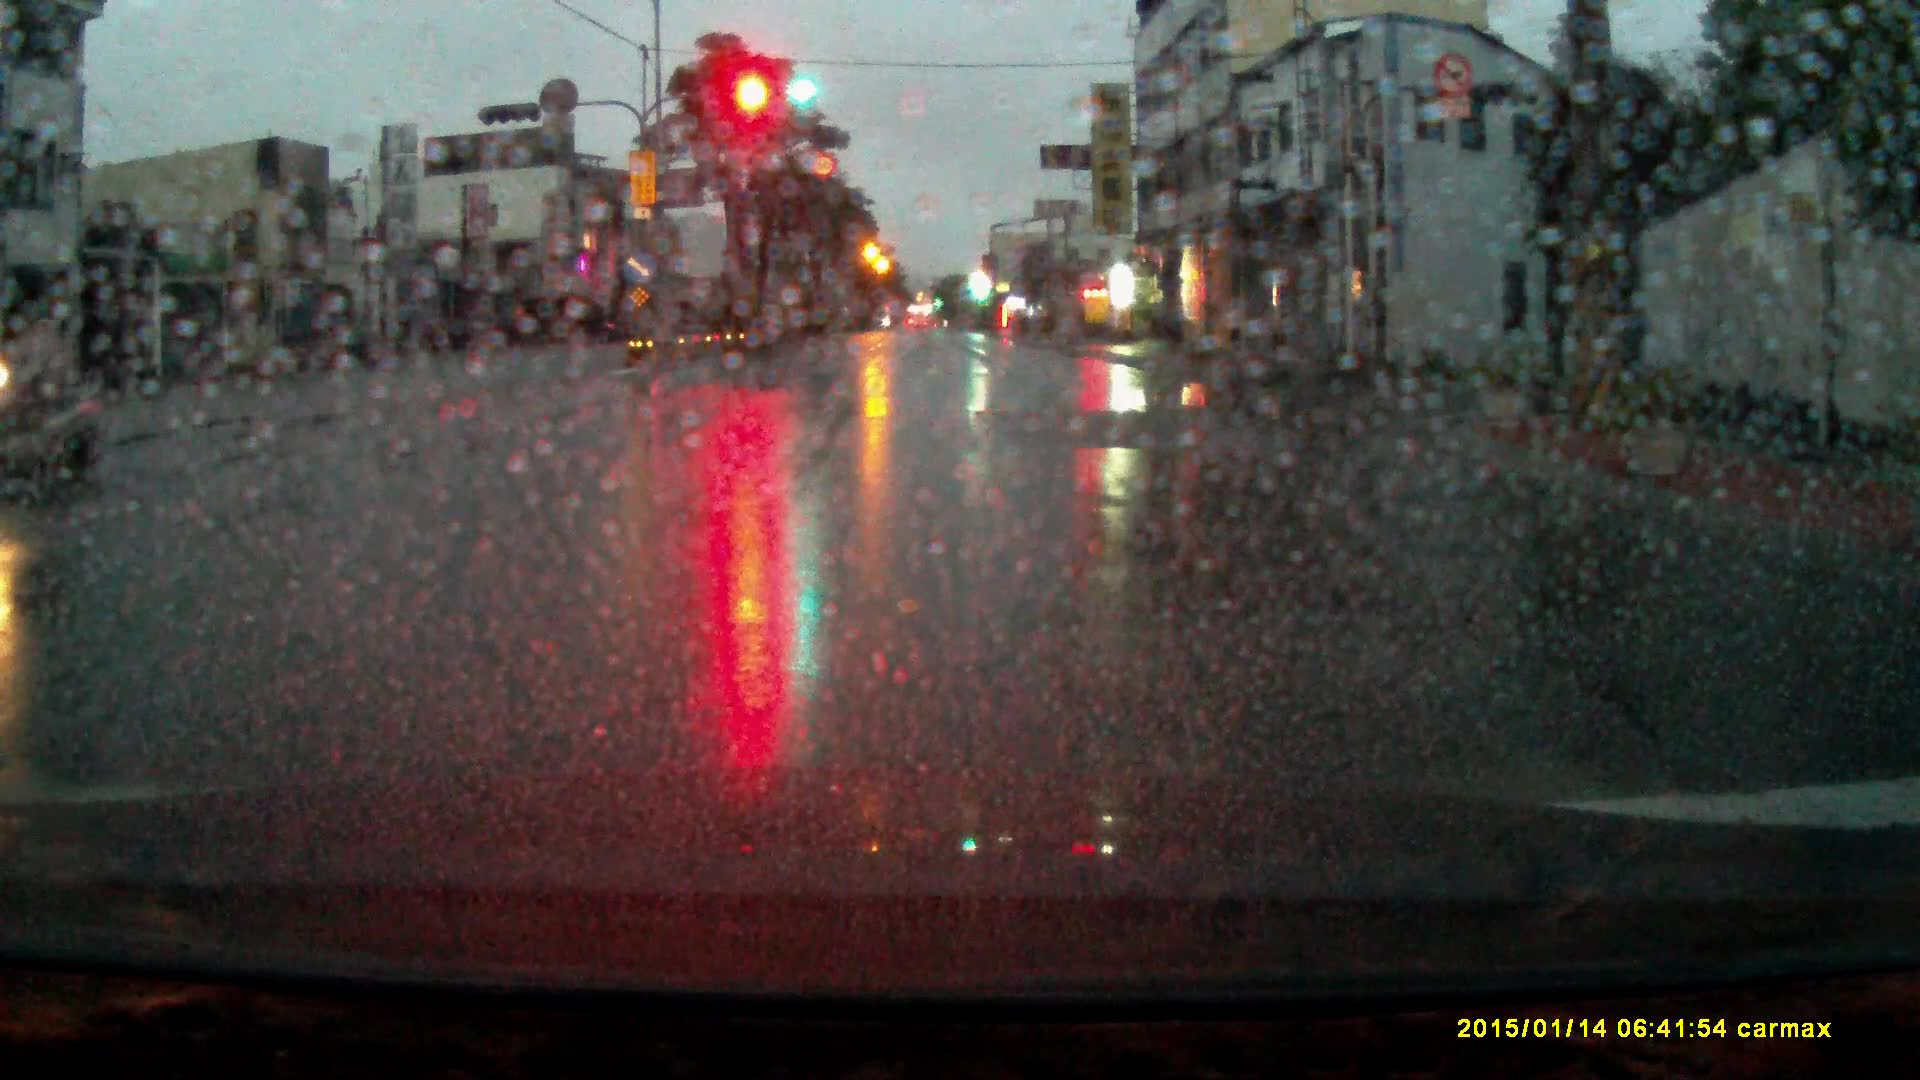rider: (1, 309, 118, 495)
